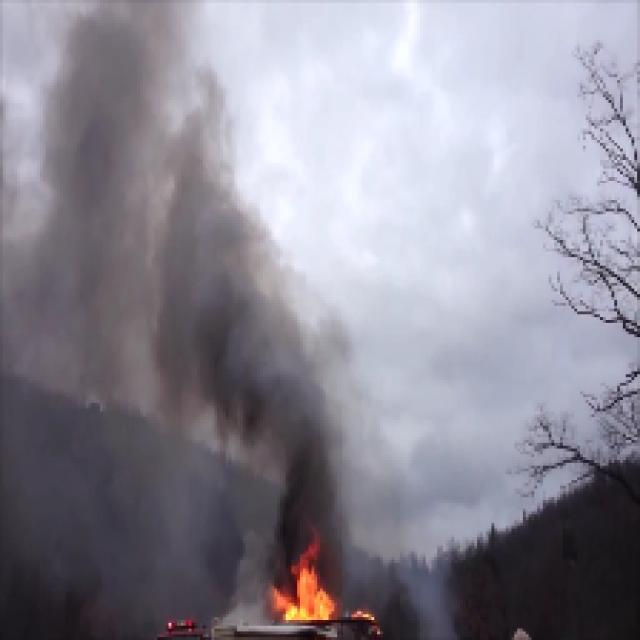fire: (270, 560, 344, 632)
smoke: (4, 3, 178, 564), (185, 113, 364, 532)
